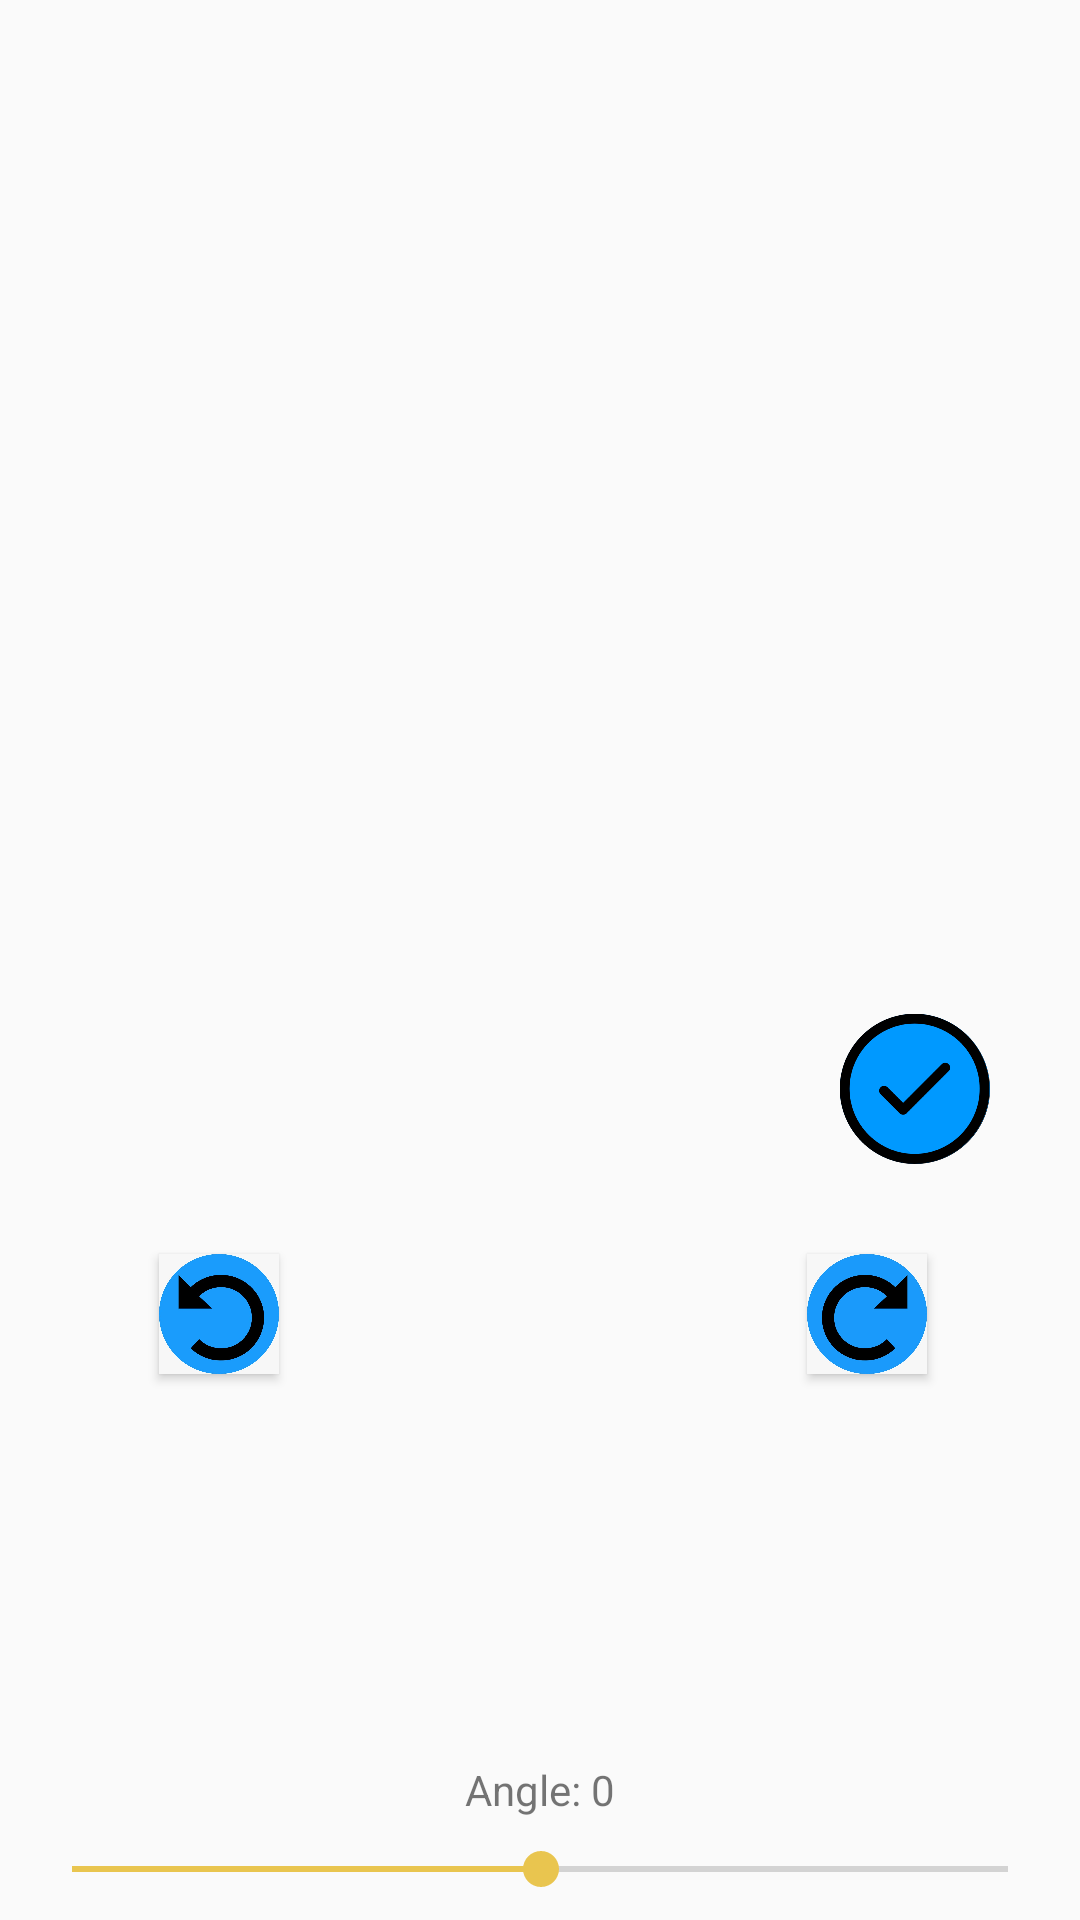

Where icons sit on this 1080x1920 app screen, as {"left": x1, "top": y1, "right": x2, "bottom": y2}:
antickcwise: {"left": 159, "top": 1254, "right": 279, "bottom": 1374}
ckcwise: {"left": 807, "top": 1254, "right": 927, "bottom": 1374}
done: {"left": 840, "top": 1014, "right": 990, "bottom": 1164}
